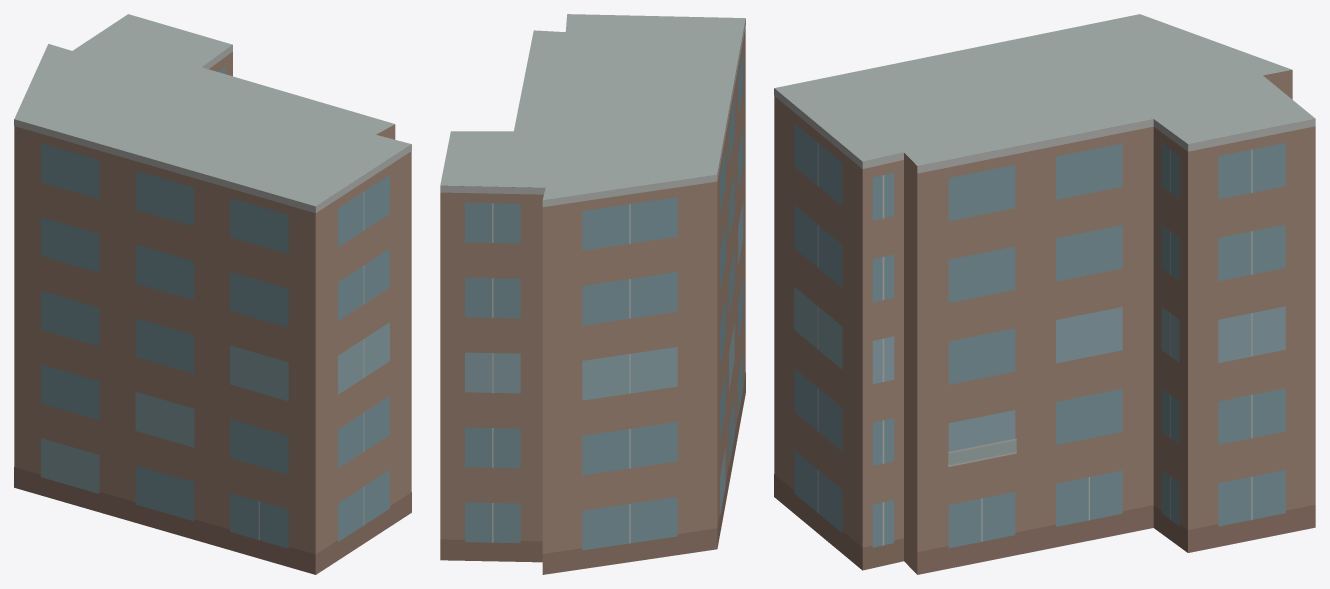
The model's file is survey-upis-32963382.glb.
The picture shows the model from 3 angles, left to right: view 1: azimuth 30°, elevation 25°; view 2: azimuth 150°, elevation 25°; view 3: azimuth 270°, elevation 25°; orthographic projection. The views are drawn at different scales.
Visible parts, largest first — view 1: survey-upis-32963382.tmp; view 2: survey-upis-32963382.tmp; view 3: survey-upis-32963382.tmp.
Boxes of the visible parts, <box> form: survey-upis-32963382.tmp: <box>14,14,411,574</box>; survey-upis-32963382.tmp: <box>440,14,745,574</box>; survey-upis-32963382.tmp: <box>774,14,1315,574</box>.
Bounding box in the file's own units: 10.54 × 13.2 × 15.86.
